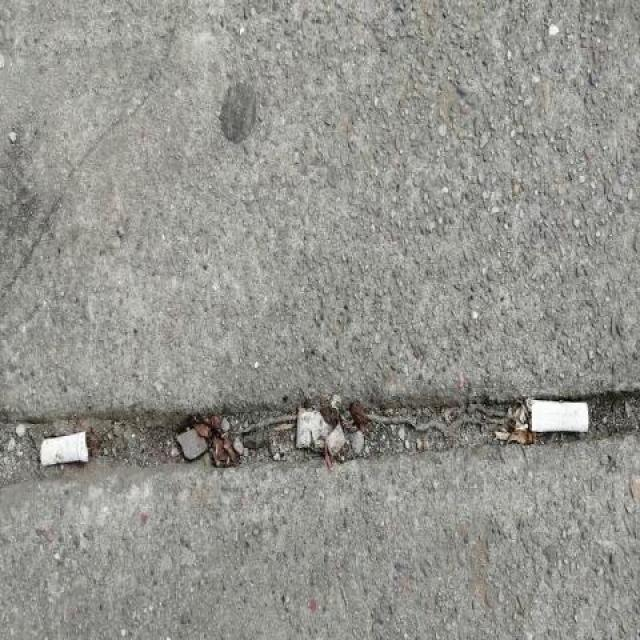non-organic waste: (36, 424, 100, 473), (525, 395, 595, 438)
